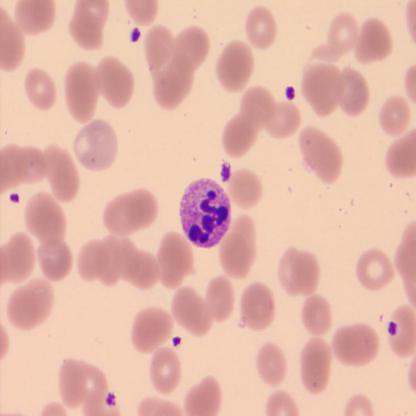Segmented neutrophil: (177, 175, 233, 250)
